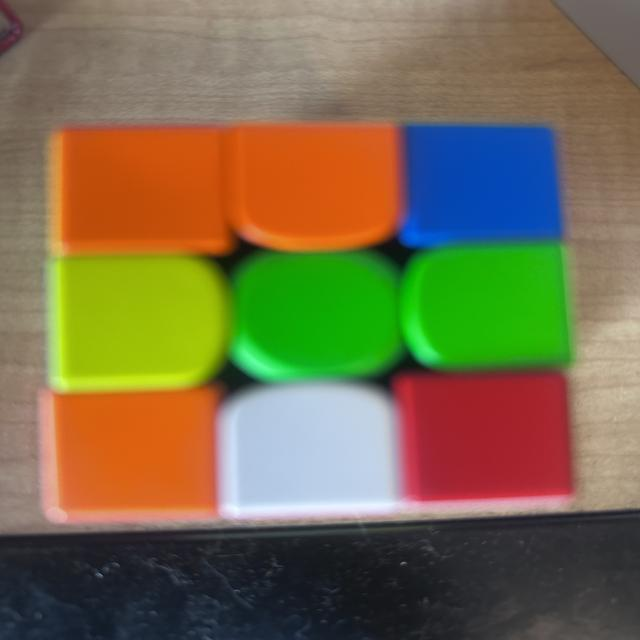sticker: (38, 383, 228, 525), (218, 382, 402, 522), (48, 255, 233, 394), (50, 125, 238, 260), (393, 371, 571, 508), (228, 124, 403, 254), (231, 250, 405, 380), (400, 244, 575, 371), (401, 126, 561, 250)
